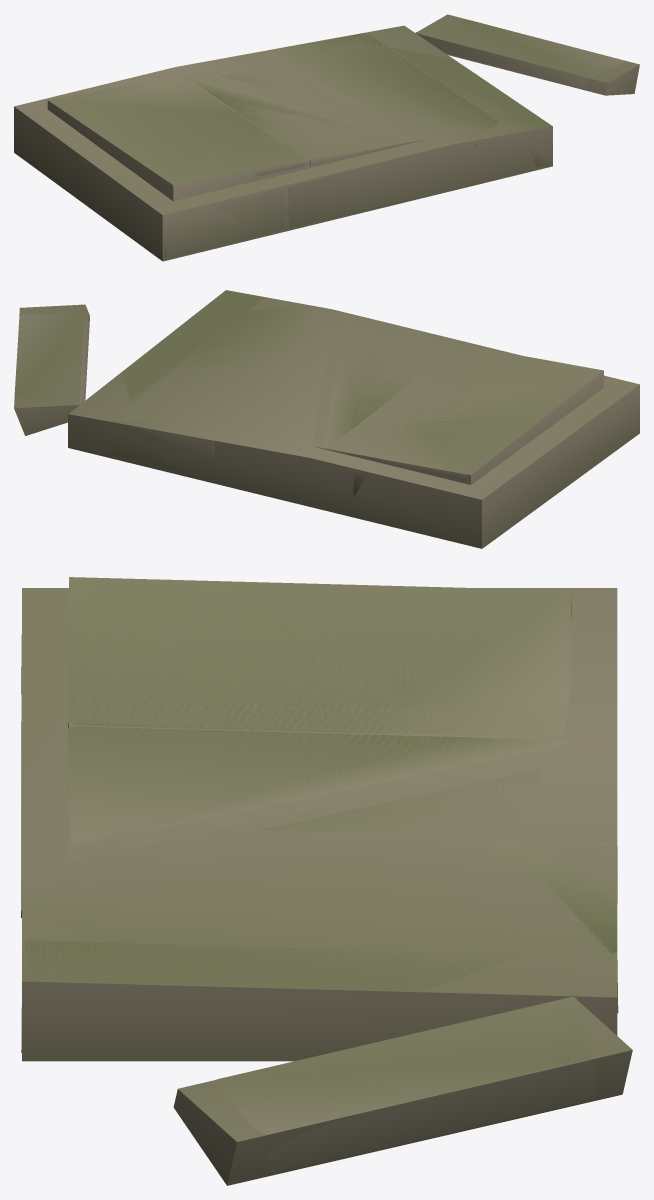
Rendered from agora_altar_smashed.glb.
3 views of the same model, one above another, from view 1: azimuth 30°, elevation 25°; view 2: azimuth 150°, elevation 25°; view 3: azimuth 270°, elevation 25° (orthographic). The views are drawn at different scales.
Visible parts, largest first — view 1: agora_altar_smashed_far, agora_altar_smashed; view 2: agora_altar_smashed_far, agora_altar_smashed; view 3: agora_altar_smashed_far, agora_altar_smashed.
Boxes of the visible parts, bbox=[...] form: agora_altar_smashed_far: bbox=[14, 14, 639, 261]; agora_altar_smashed: bbox=[51, 19, 624, 257]; agora_altar_smashed_far: bbox=[14, 290, 639, 548]; agora_altar_smashed: bbox=[14, 290, 583, 496]; agora_altar_smashed_far: bbox=[22, 577, 632, 1185]; agora_altar_smashed: bbox=[21, 578, 618, 1174].
Bounding box in the file's own units: 14.42 × 1.62 × 7.19.
